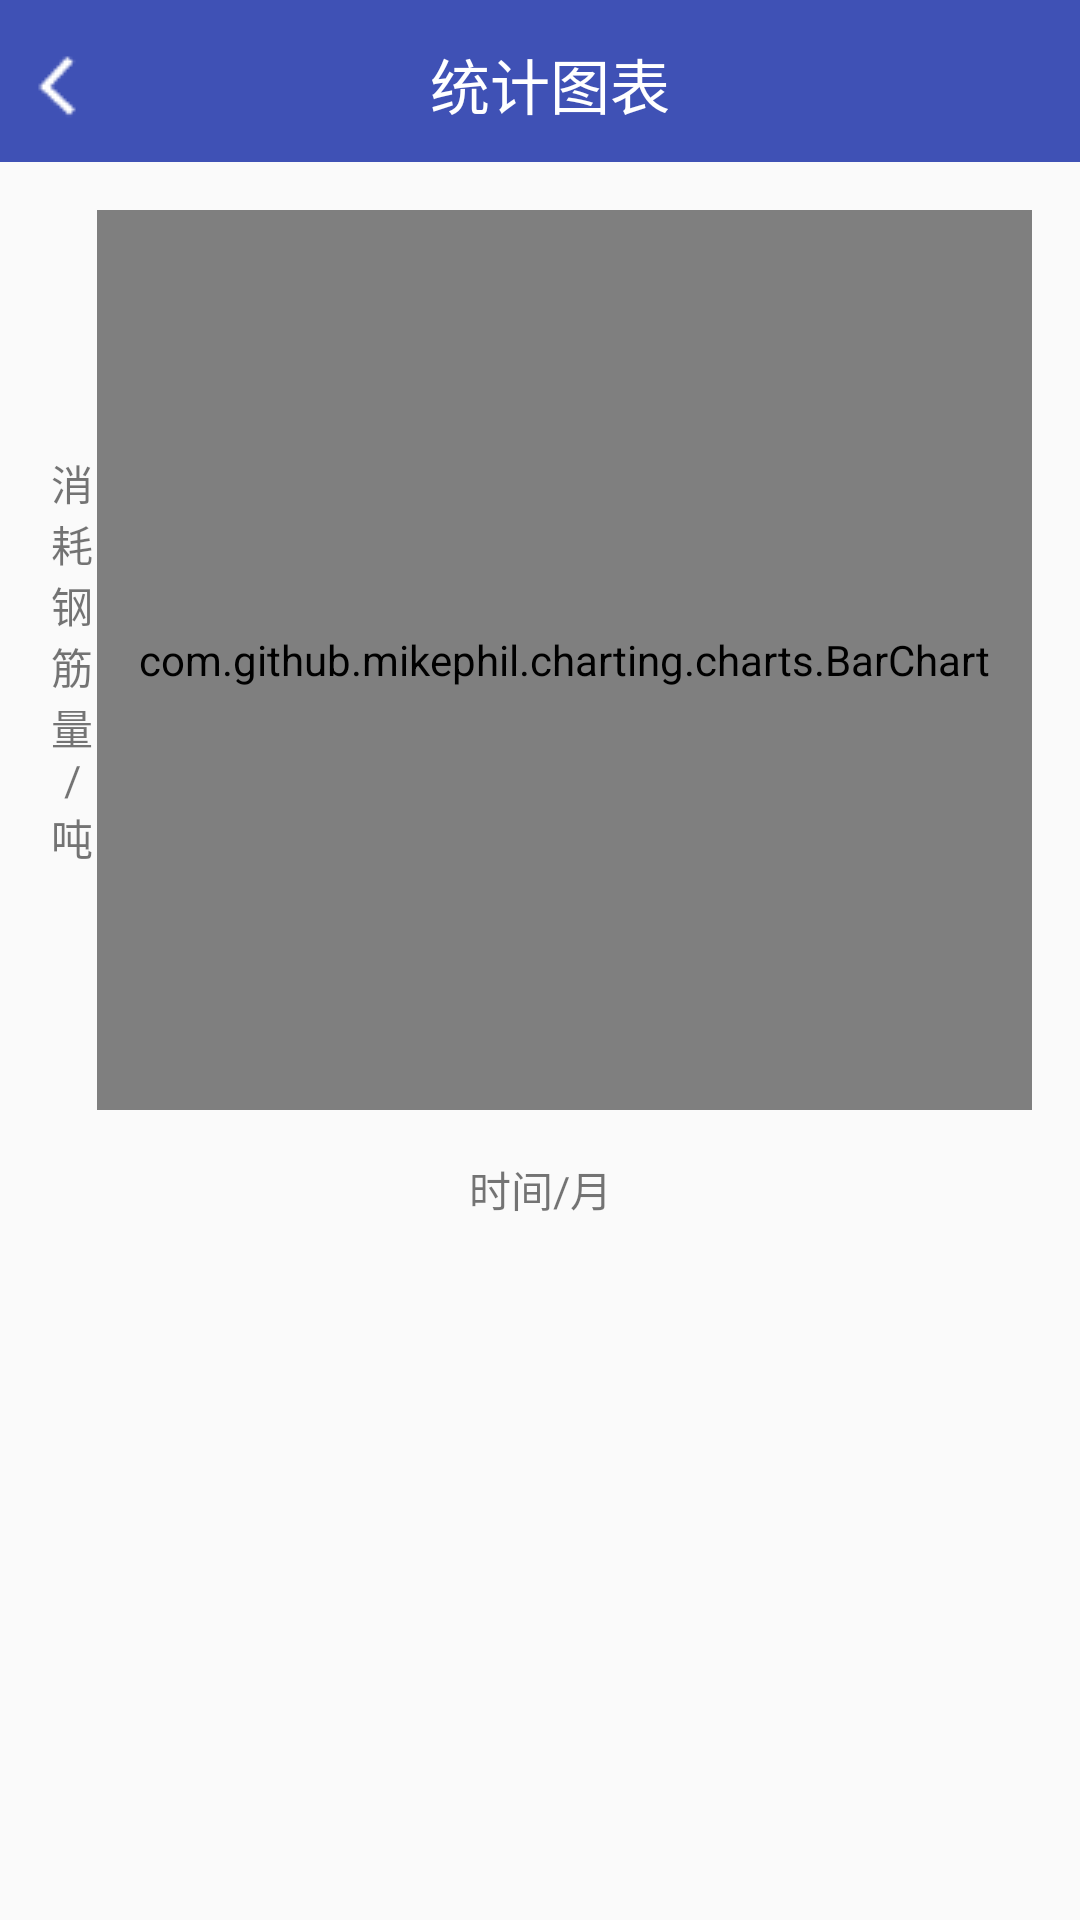

Named icons in this screenshot (1080×1920) and their centers, (x=x, y=y):
back: (x=57, y=85)
